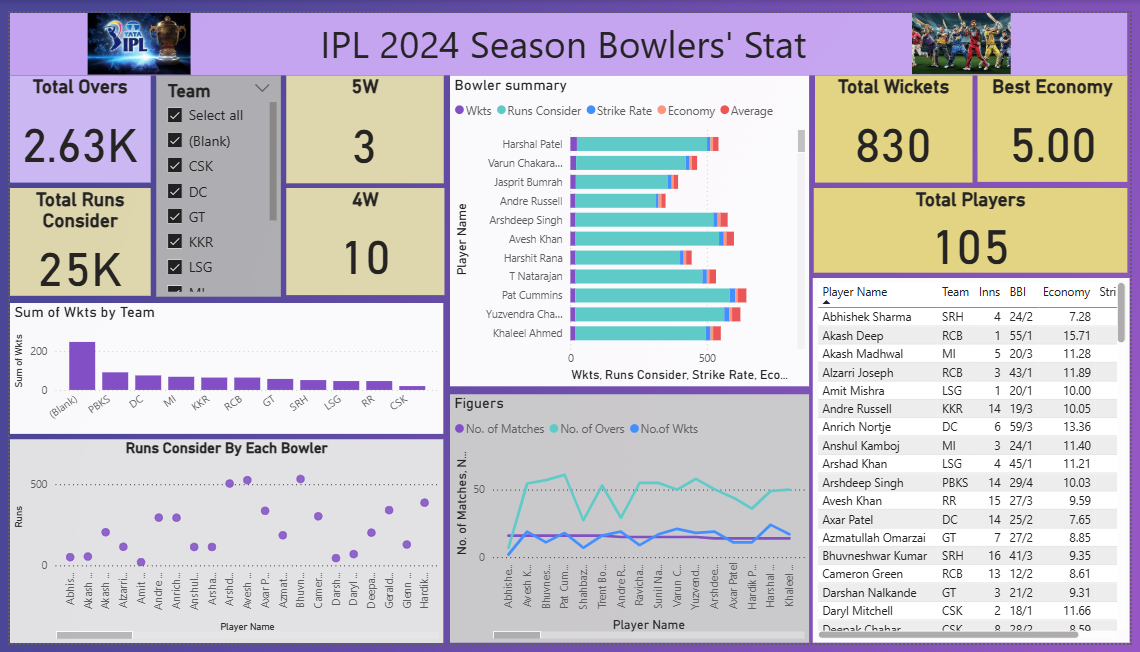

What the dashboard file says about the page in this screenshot:
{"tool":"powerbi","page":{"name":"Page 2","canvas":[1280,720],"ordinal":1},"visuals":[{"type":"textbox","box":[0,0,1277.1,71.4],"z":0},{"type":"card","title":"Total Overs","fields":{"Values":["Sum(seasonbowler2024.Ov)"]},"box":[0,71.4,160.5,122.1],"z":1},{"type":"card","title":"Total Runs Consider","fields":{"Values":["Sum(seasonbowler2024.Runs)"]},"box":[0,200.3,160.5,123.5],"z":2},{"type":"card","title":"Total Players","fields":{"Values":["seasonbowler2024.Total_Players"]},"box":[918.6,200,358.6,97.1],"z":3},{"type":"card","title":"Total Wickets","fields":{"Values":["Sum(seasonbowler2024.Wkts)"]},"box":[919.4,71.4,179.8,122.1],"z":4},{"type":"card","title":"Best Economy","fields":{"Values":["seasonbowler2024.Best_Eco"]},"box":[1105.7,71.4,171.4,121.4],"z":5},{"type":"slicer","fields":{"Values":["seasonbowler2024.Team"]},"box":[167.4,71.4,142.7,252.5],"z":6},{"type":"card","title":"4W","fields":{"Values":["seasonbowler2024.4W_whole"]},"box":[315.6,200.3,181.1,122.1],"z":7},{"type":"card","title":"5W","fields":{"Values":["seasonbowler2024.5W_whole"]},"box":[315.6,71.4,179.8,123.5],"z":8},{"type":"scatterChart","title":"Runs Consider By Each Bowler","fields":{"X":["seasonbowler2024.Player.1"],"Y":["Sum(seasonbowler2024.Runs)"]},"box":[0,486.7,495.4,233.3],"z":9},{"type":"barChart","title":"Bowler summary","fields":{"Category":["seasonbowler2024.Player.1"],"Y":["Sum(seasonbowler2024.Wkts)","Sum(seasonbowler2024.Runs)","Sum(seasonbowler2024.SR)","Sum(seasonbowler2024.Econ)","Sum(seasonbowler2024.Avg)"]},"box":[502.2,71.4,410.3,355.4],"z":10},{"type":"lineClusteredColumnComboChart","fields":{"Category":["seasonbatsman2024.Team"],"Y":["Sum(seasonbowler2024.Wkts)"]},"box":[0,332.1,495.4,149.6],"z":11},{"type":"lineChart","title":"Figuers","fields":{"Category":["seasonbowler2024.Player.1"],"Y":["Sum(seasonbowler2024.Mat)","Sum(seasonbowler2024.Ov)","Sum(seasonbowler2024.Wkts)"]},"box":[502.2,436,410.3,284],"z":12},{"type":"tableEx","fields":{"Values":["seasonbowler2024.Player Name","seasonbowler2024.Team","Sum(seasonbowler2024.Inns)","seasonbowler2024.BBI","Sum(seasonbowler2024.Econ)","Sum(seasonbowler2024.SR)"]},"box":[917.7,302.8,362.3,417.2],"z":13},{"type":"image","box":[982.9,0,208.6,78.6],"z":14},{"type":"image","box":[67,0,161.4,74],"z":15}]}

Visuals, with their boxes in screenshot pixels (x1, y1, x2, y2), scaled from the page's 1280x720 canvas onto the 1140x652 screenshot:
textbox: [0, 0, 1137, 65]
"Total Overs" card: [0, 65, 143, 175]
"Total Runs Consider" card: [0, 181, 143, 293]
"Total Players" card: [818, 181, 1138, 269]
"Total Wickets" card: [819, 65, 979, 175]
"Best Economy" card: [985, 65, 1137, 175]
slicer - seasonbowler2024.Team: [149, 65, 276, 293]
"4W" card: [281, 181, 442, 292]
"5W" card: [281, 65, 441, 176]
"Runs Consider By Each Bowler" scatterChart: [0, 441, 441, 651]
"Bowler summary" barChart: [447, 65, 813, 386]
lineClusteredColumnComboChart - seasonbatsman2024.Team x Sum(seasonbowler2024.Wkts): [0, 301, 441, 436]
"Figuers" lineChart: [447, 395, 813, 651]
tableEx - seasonbowler2024.Player Name x seasonbowler2024.Team: [817, 274, 1139, 651]
image: [875, 0, 1061, 71]
image: [60, 0, 203, 67]
